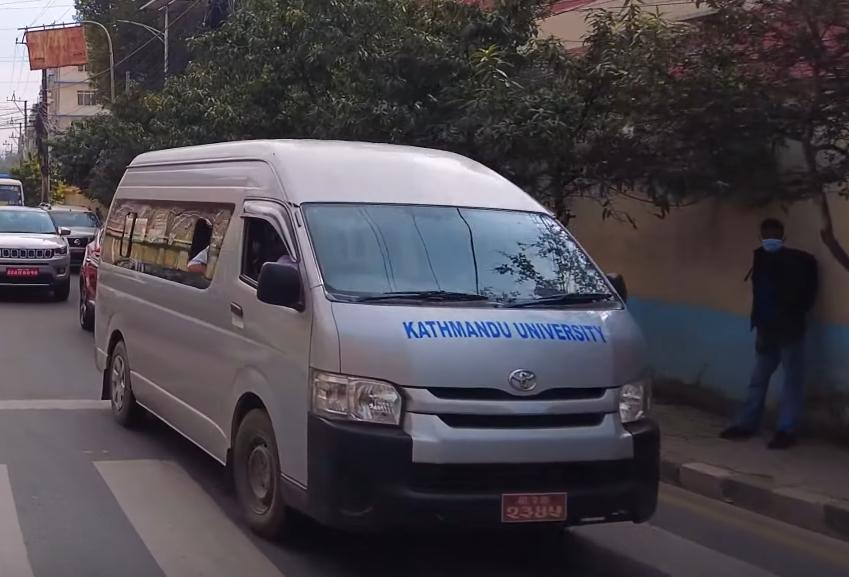micro_bus: (92, 127, 672, 562)
